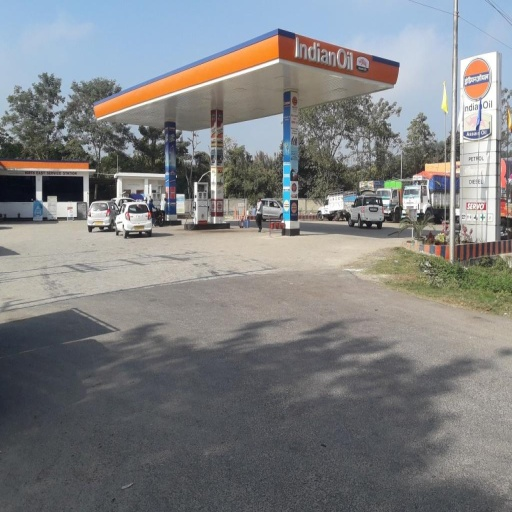roof: (88, 28, 400, 137)
